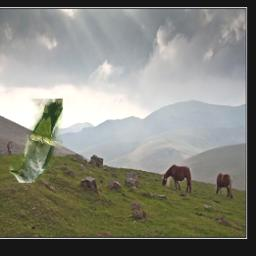Cuckoo: (10, 100, 64, 184)
